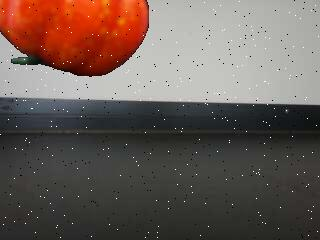Pumpkin: (0, 0, 149, 77)
